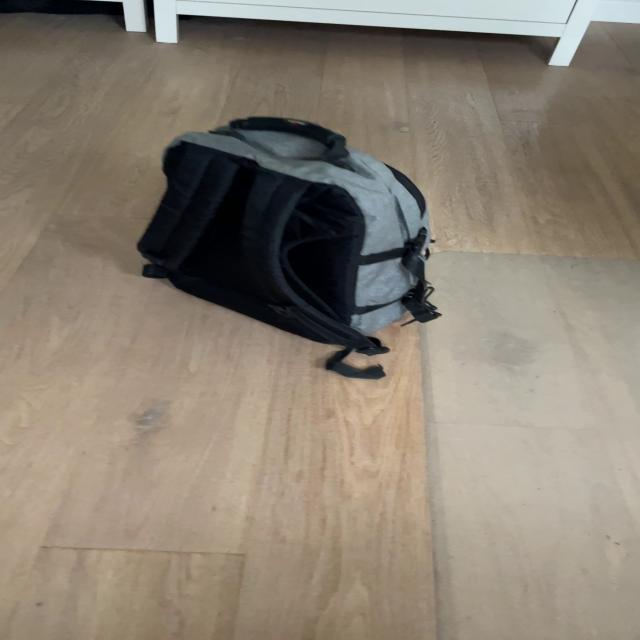backpack: (122, 104, 450, 356)
